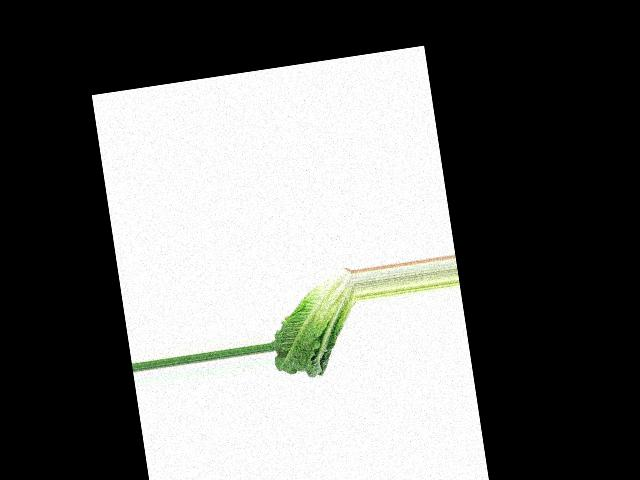lettuce: (261, 260, 367, 381)
